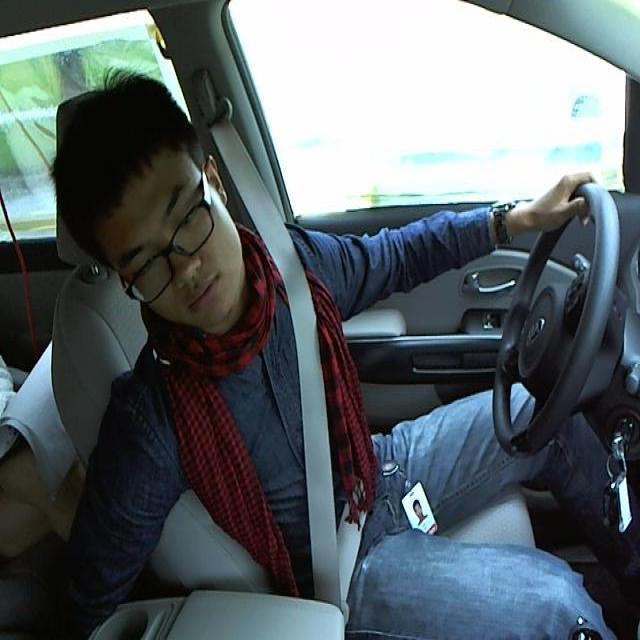seatbelt: (267, 247, 363, 590)
